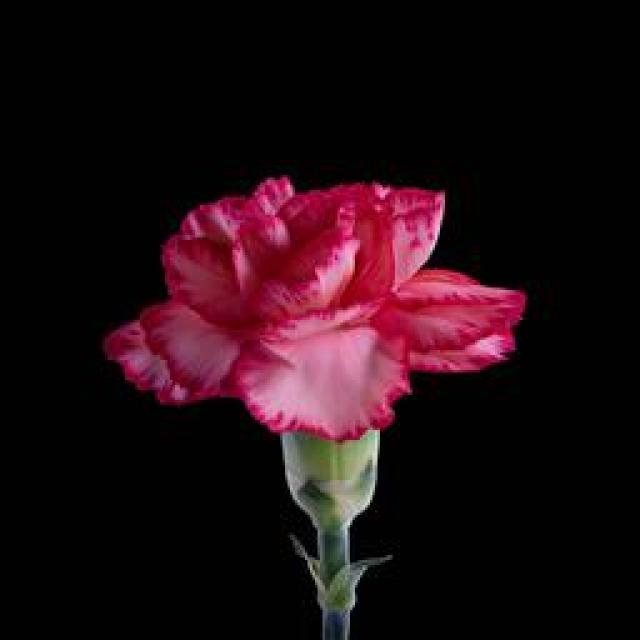carnation: (88, 163, 561, 501)
